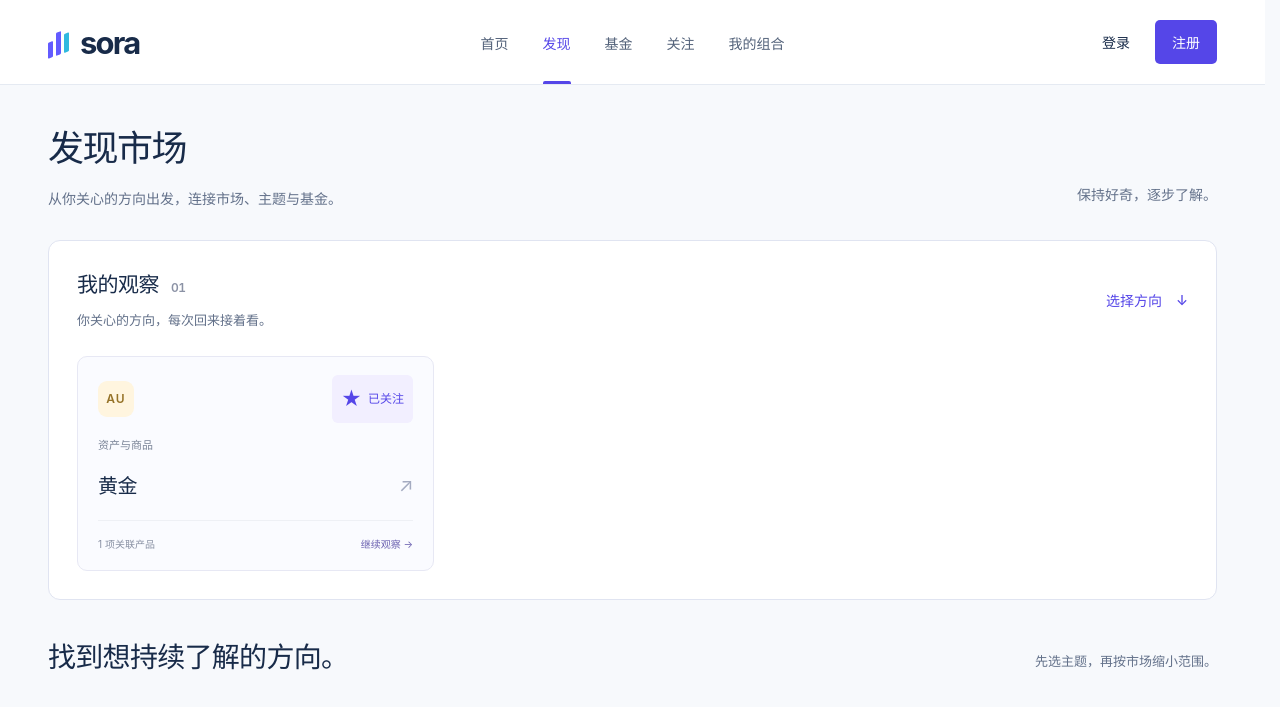
Test: direction discovery › undoes a removal and synchronizes other tabs without changing fund records
Expected: the heading "发现市场" is shown, [48,126,186,170]
What coordinates should you click on to do the following:
click the button with aria-label "取消关注方向：黄金"
I would click on:
 (373, 399)
Its box is [332,375,413,423].
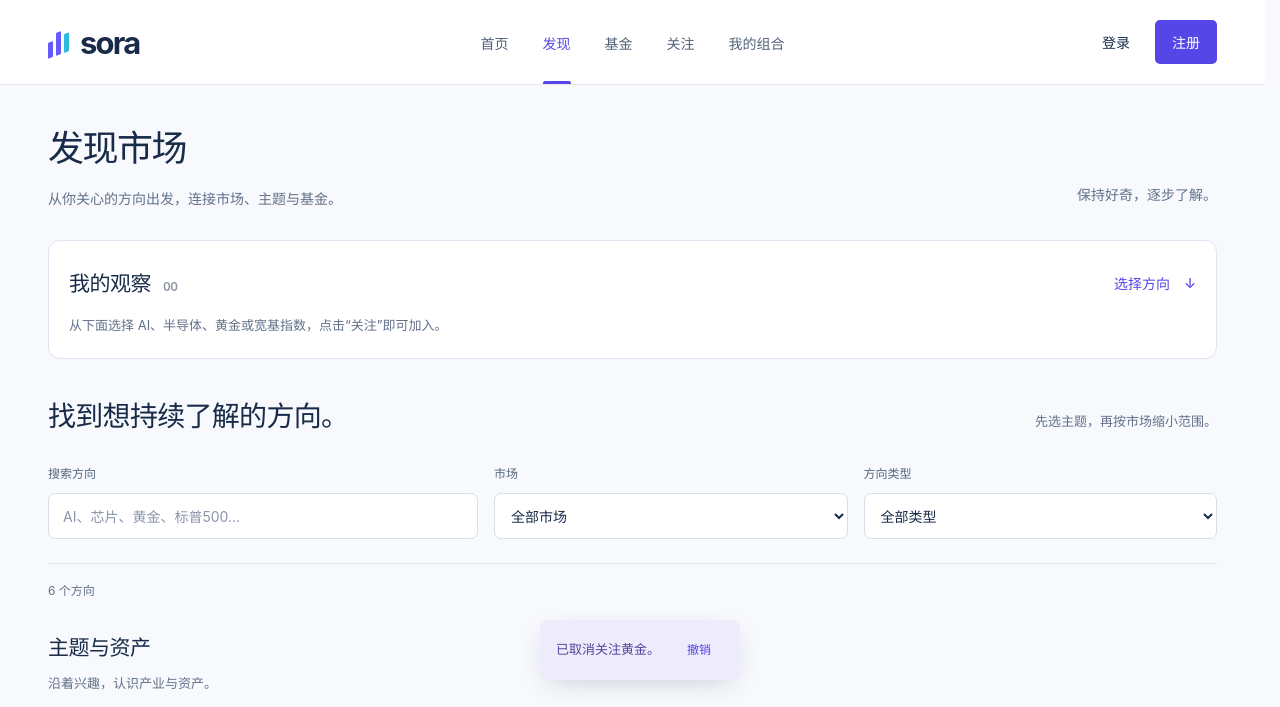
What coordinates should you click on to do the following:
click the button "撤销"
I would click on:
 (699, 650)
Its box is [674,628,724,672].
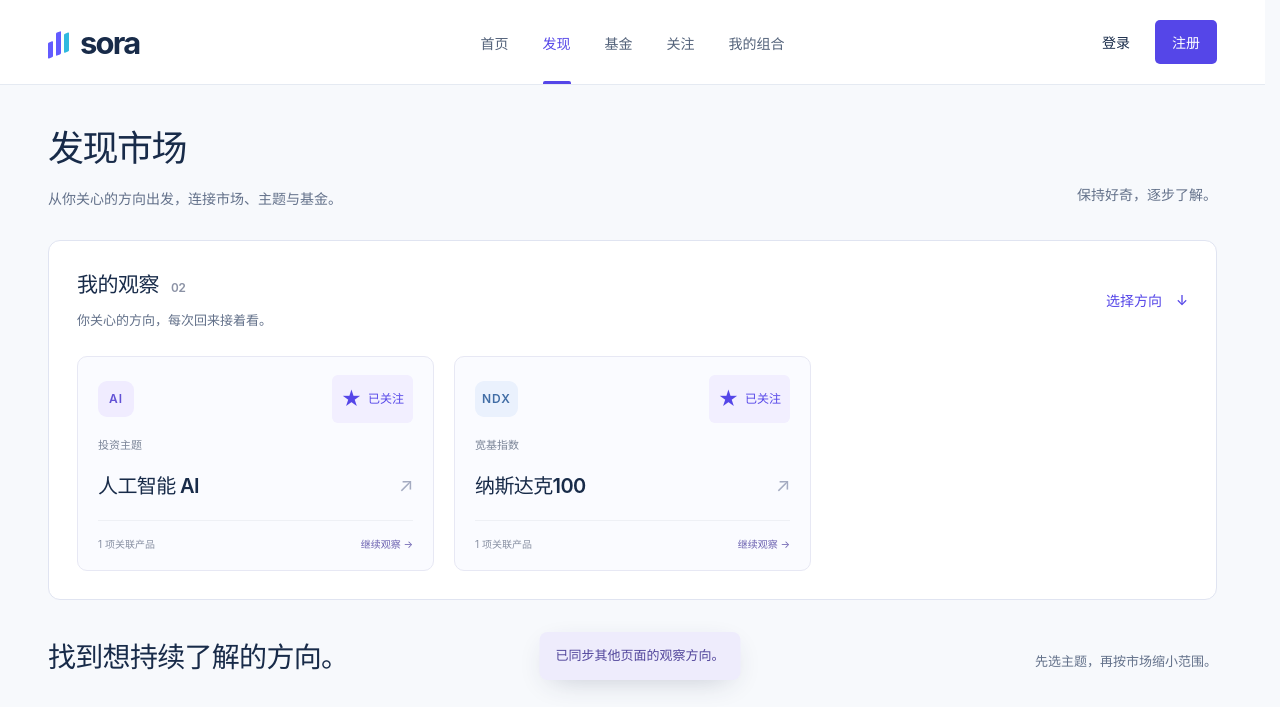
Expected: the link "人工智能 AI ↗" is shown, [98,474,413,498]
Expected: the button "撤销" is gone
